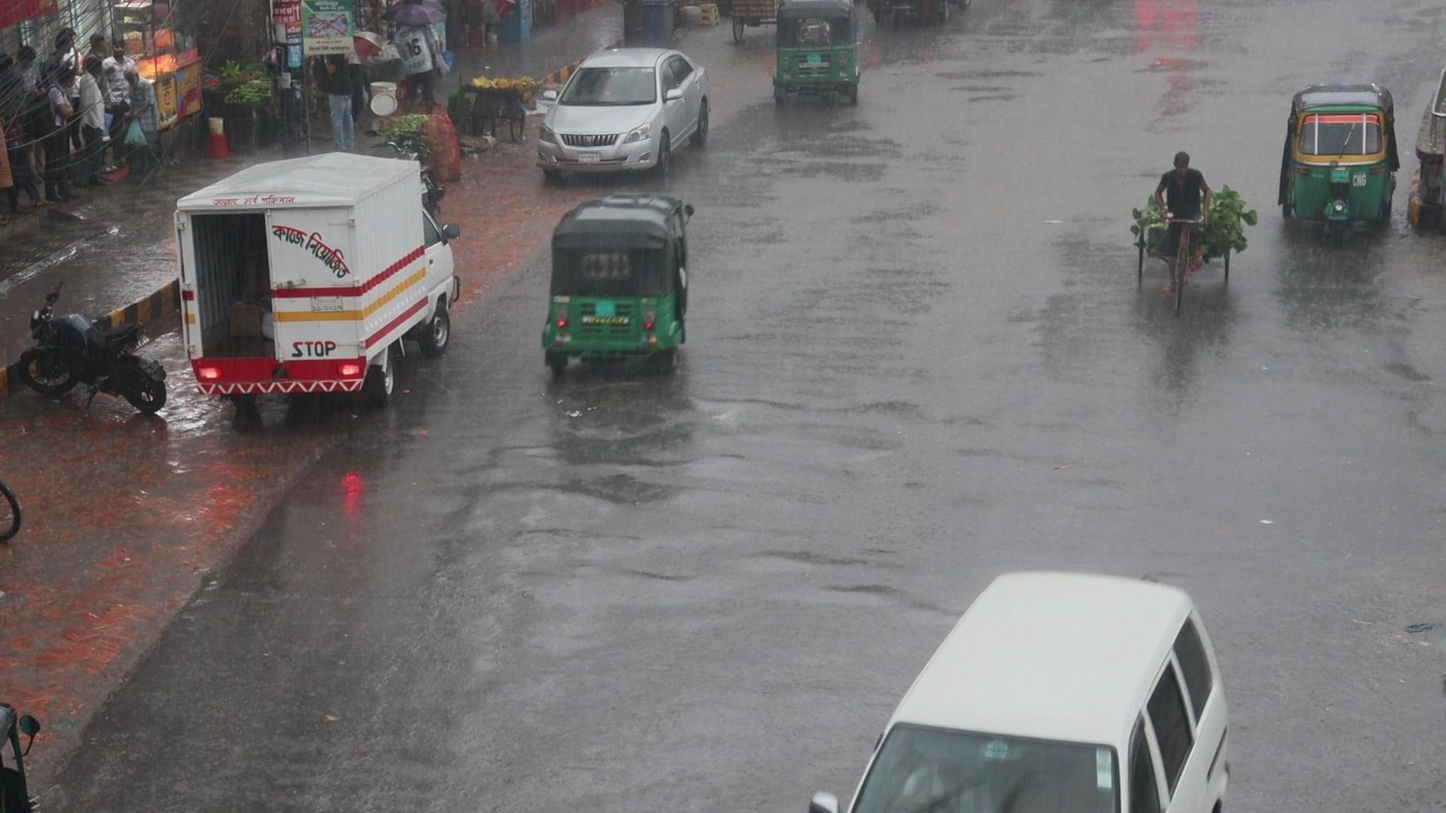Car: (809, 569, 1231, 813)
